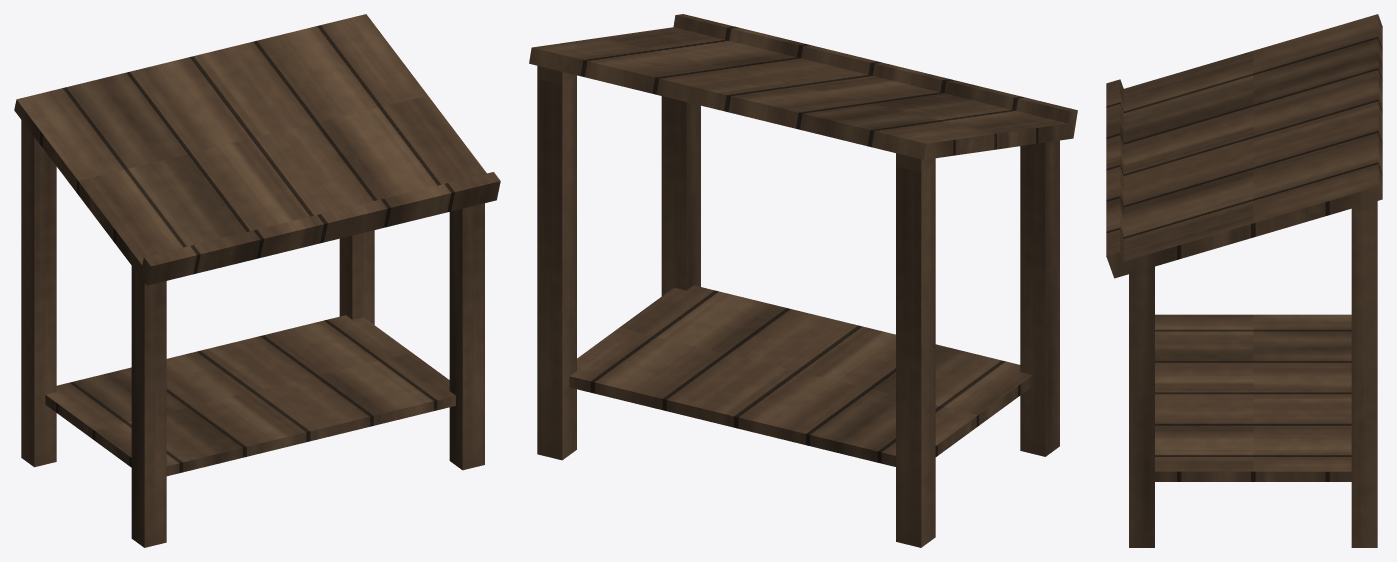
Rendered from Desk_Scribe_1_LOD2.gltf.
3 renders of one model, left to right at view 1: azimuth 30°, elevation 25°; view 2: azimuth 150°, elevation 25°; view 3: azimuth 270°, elevation 25°, orthographic. The views are drawn at different scales.
Parts seen in each view (by area): view 1: Desk_Scribe_1_LOD2; view 2: Desk_Scribe_1_LOD2; view 3: Desk_Scribe_1_LOD2.
Boxes of the visible parts, left/top/right/bottom form: Desk_Scribe_1_LOD2: left=14, top=14, right=500, bottom=547; Desk_Scribe_1_LOD2: left=529, top=14, right=1077, bottom=547; Desk_Scribe_1_LOD2: left=1106, top=14, right=1382, bottom=547.
Size of the model in its own units: 1.1 by 1.08 by 0.7444.
1 material, 1 textured.
